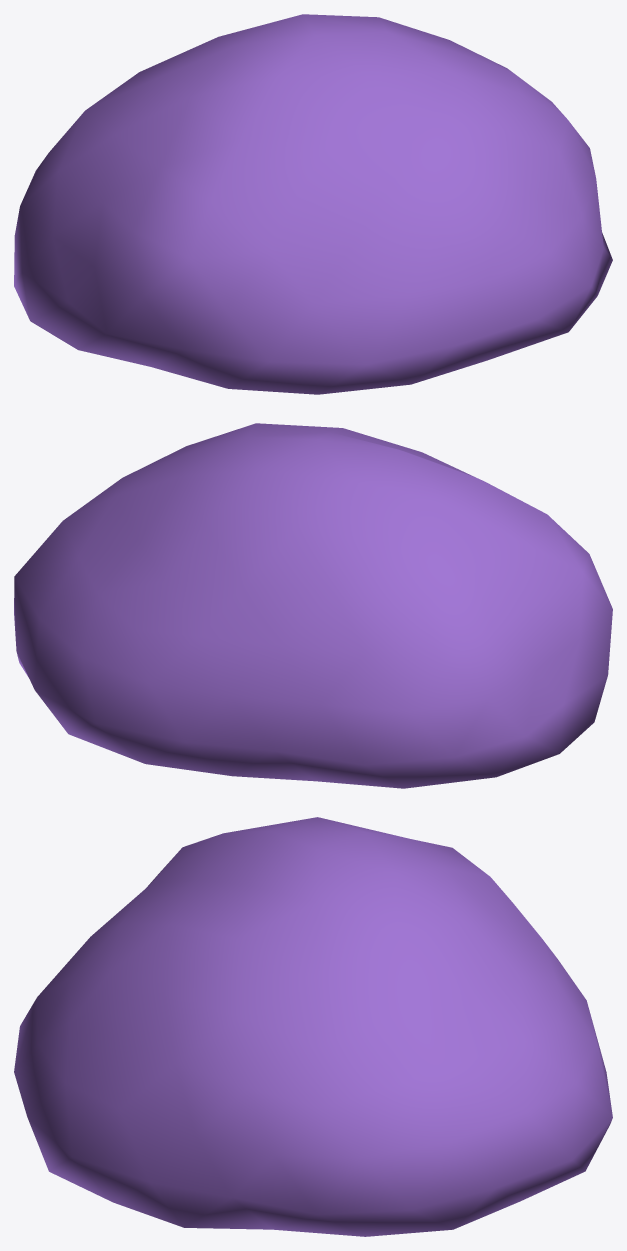
File: Coral_Brain.fbx
3 views of the same model, one above another, from view 1: azimuth 30°, elevation 25°; view 2: azimuth 150°, elevation 25°; view 3: azimuth 270°, elevation 25° (orthographic). The views are drawn at different scales.
Parts seen in each view (by area): view 1: Coral_Brain.001; view 2: Coral_Brain.001; view 3: Coral_Brain.001.
Part boxes in pixels (left/top/right/bottom): Coral_Brain.001: left=14, top=14, right=612, bottom=394; Coral_Brain.001: left=14, top=423, right=612, bottom=788; Coral_Brain.001: left=14, top=817, right=612, bottom=1236.
Size of the model in its own units: 0.9311 by 0.393 by 0.8374.
